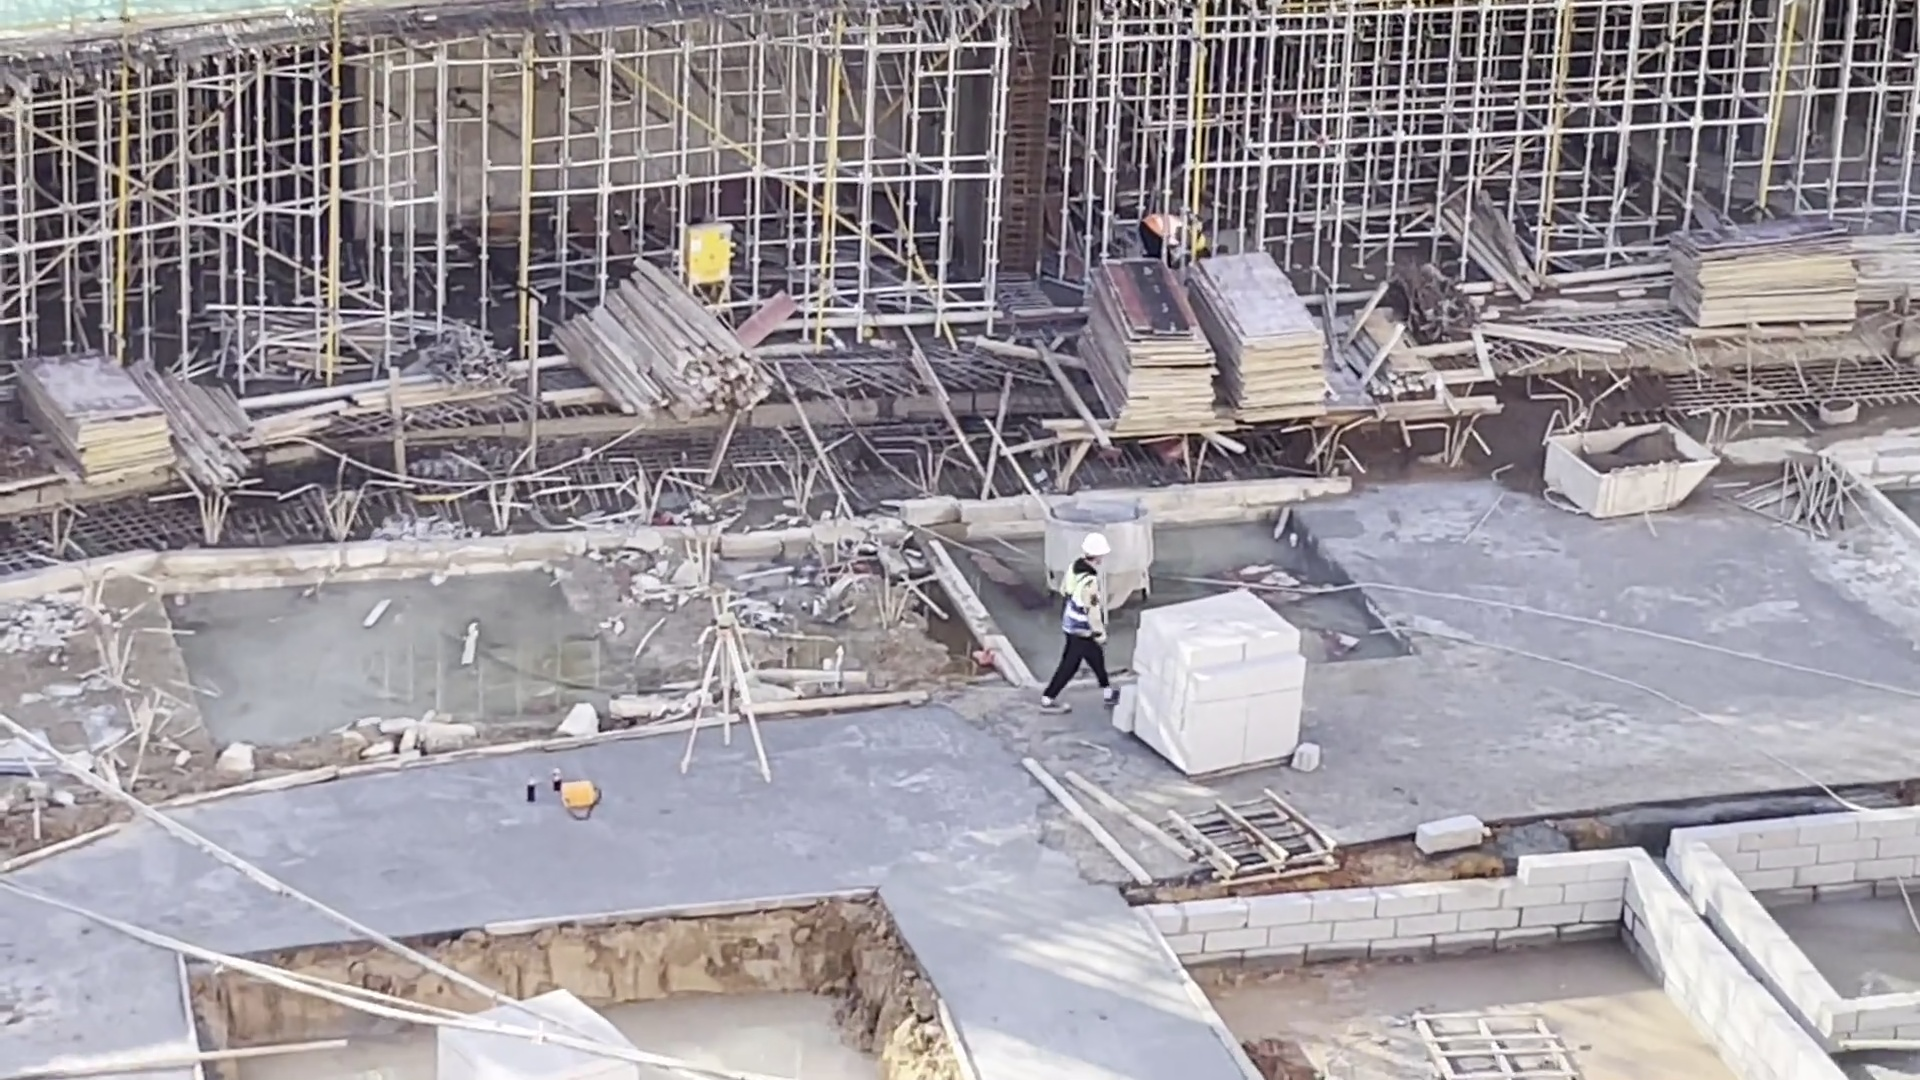board: (1070, 256, 1221, 439), (1663, 215, 1864, 342), (1189, 248, 1332, 426), (15, 349, 182, 487)
brick: (1132, 586, 1299, 779)
ebox: (685, 217, 732, 291)
helmet: (1078, 534, 1113, 557)
hopper: (1536, 417, 1728, 517), (1032, 495, 1153, 537)
person: (1042, 532, 1123, 718)
vest: (1064, 562, 1102, 642)
wood: (558, 254, 782, 422), (191, 383, 256, 486)
